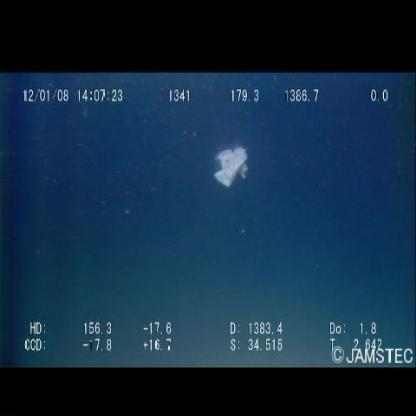Rác: (211, 140, 251, 188)
